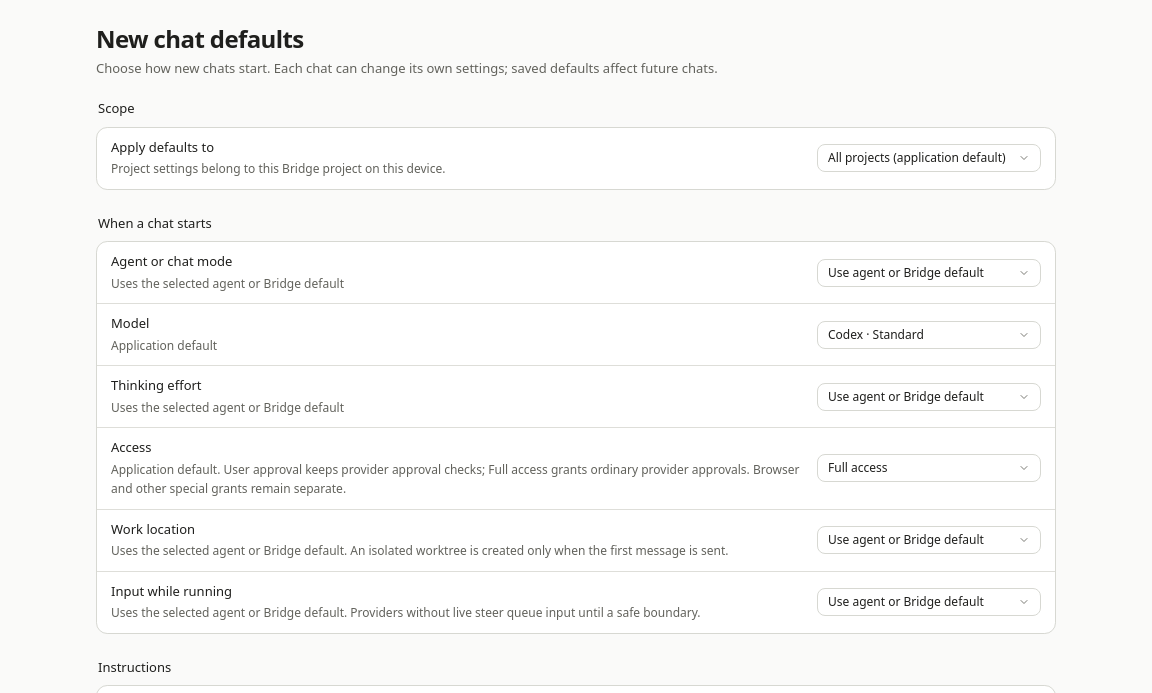
Test: reports save failures without claiming Saved and keeps the user's draft
What coordinates should you click on to do the following:
click the dropdown named "Default chat access"
I would click on:
 (929, 468)
Its box is left=817, top=454, right=1041, bottom=482.
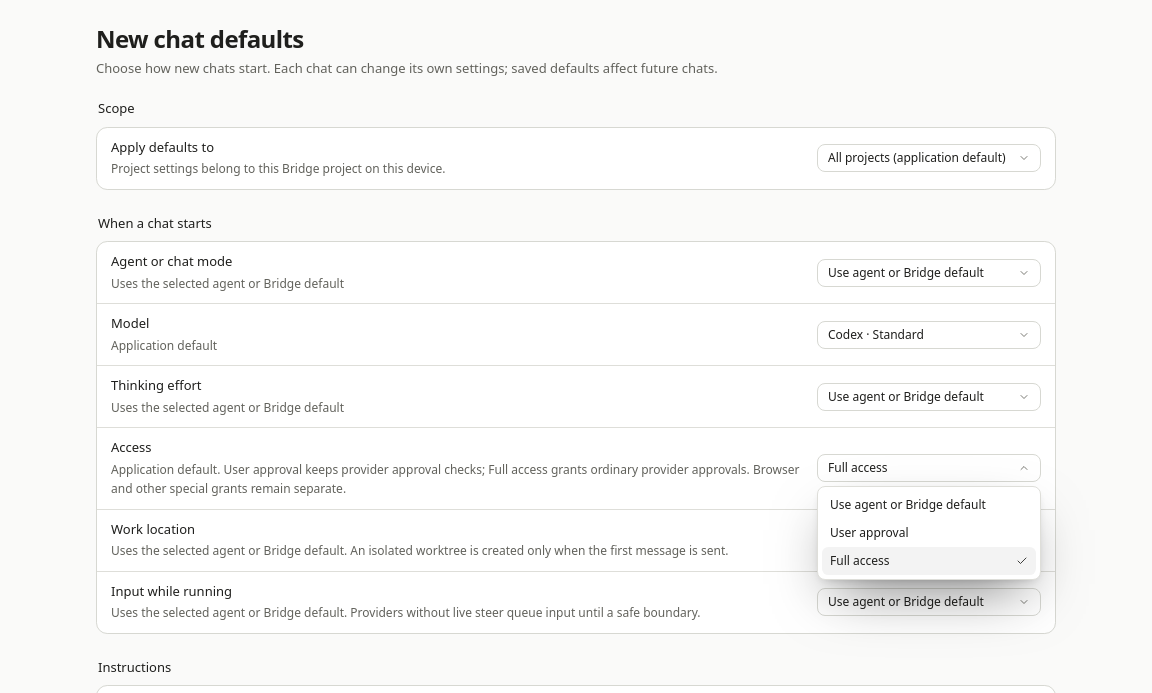
Expected: the option "User approval" is shown
What coordinates should you click on to do the following:
click the option "User approval"
I would click on:
 (869, 532)
Its box is left=830, top=524, right=908, bottom=541.
(page scrolled)
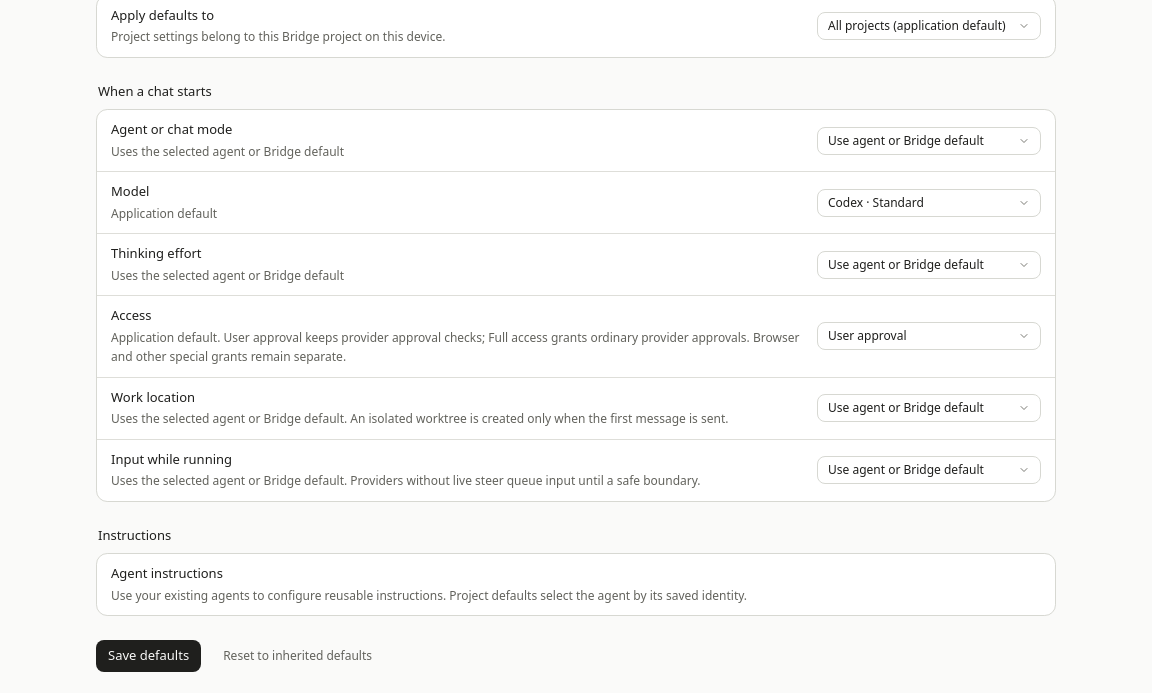
What coordinates should you click on to do the following:
click the button "Save defaults"
I would click on:
 (149, 656)
Its box is left=96, top=640, right=201, bottom=672.
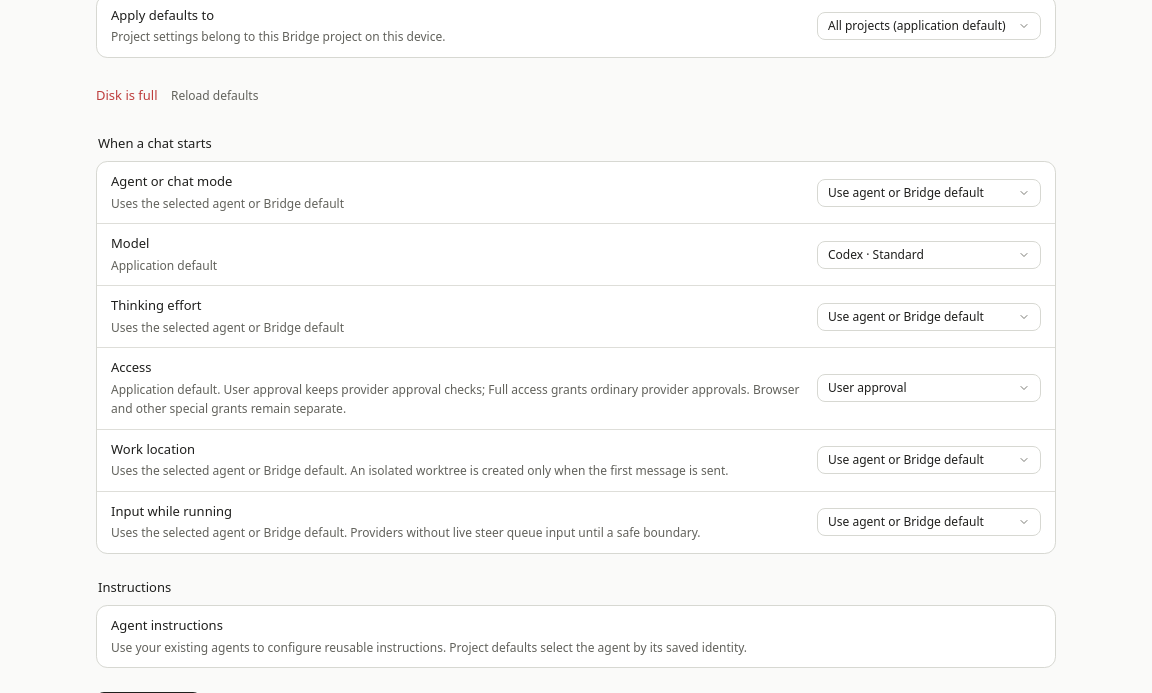
Expected: the text "Saved" is not shown
Expected: the dropdown labelled "User approval" is shown, left=817, top=374, right=1041, bottom=402
Expected: the message "Disk is full Reload defaults" is shown, left=96, top=82, right=268, bottom=110
